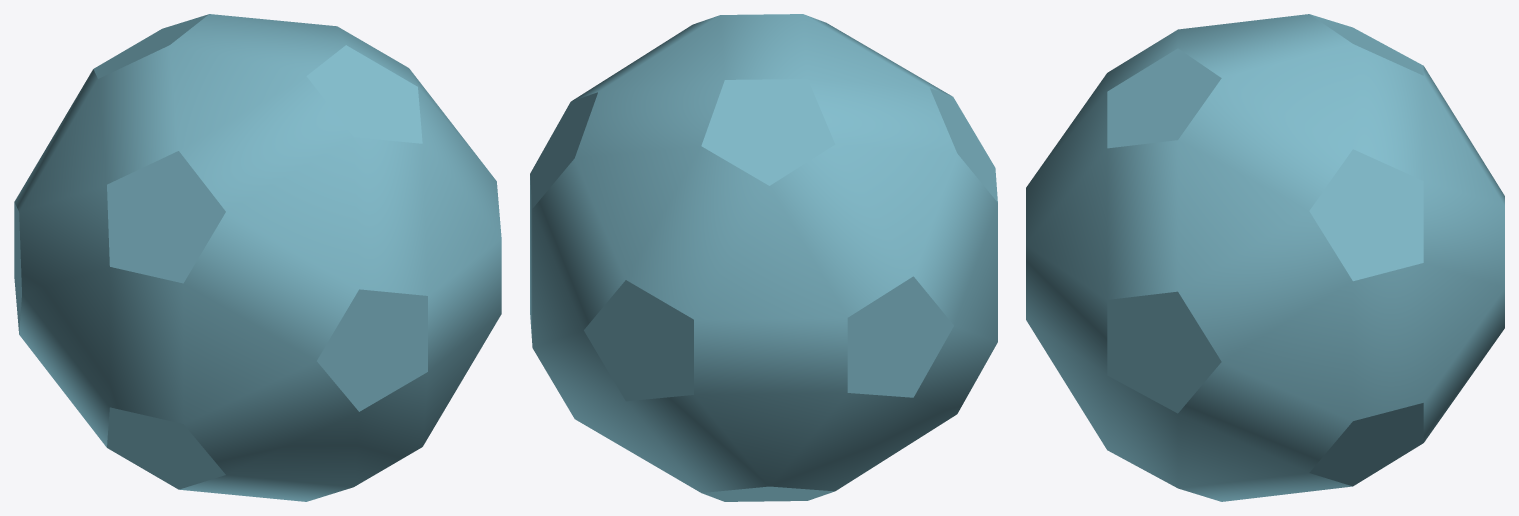
Rendered from Health_Pack.fbx.
3 views of the same model, side by side, from view 1: azimuth 30°, elevation 25°; view 2: azimuth 150°, elevation 25°; view 3: azimuth 270°, elevation 25° (orthographic).
Parts seen in each view (by area): view 1: Health_Pack_CrossShape; view 2: Health_Pack_CrossShape; view 3: Health_Pack_CrossShape.
Part boxes in pixels (x1=…): Health_Pack_CrossShape: x1=14, y1=14, x2=501, y2=501; Health_Pack_CrossShape: x1=530, y1=14, x2=997, y2=501; Health_Pack_CrossShape: x1=1026, y1=14, x2=1504, y2=501.
Size of the model in its own units: 16.75 by 15.93 by 16.32.
